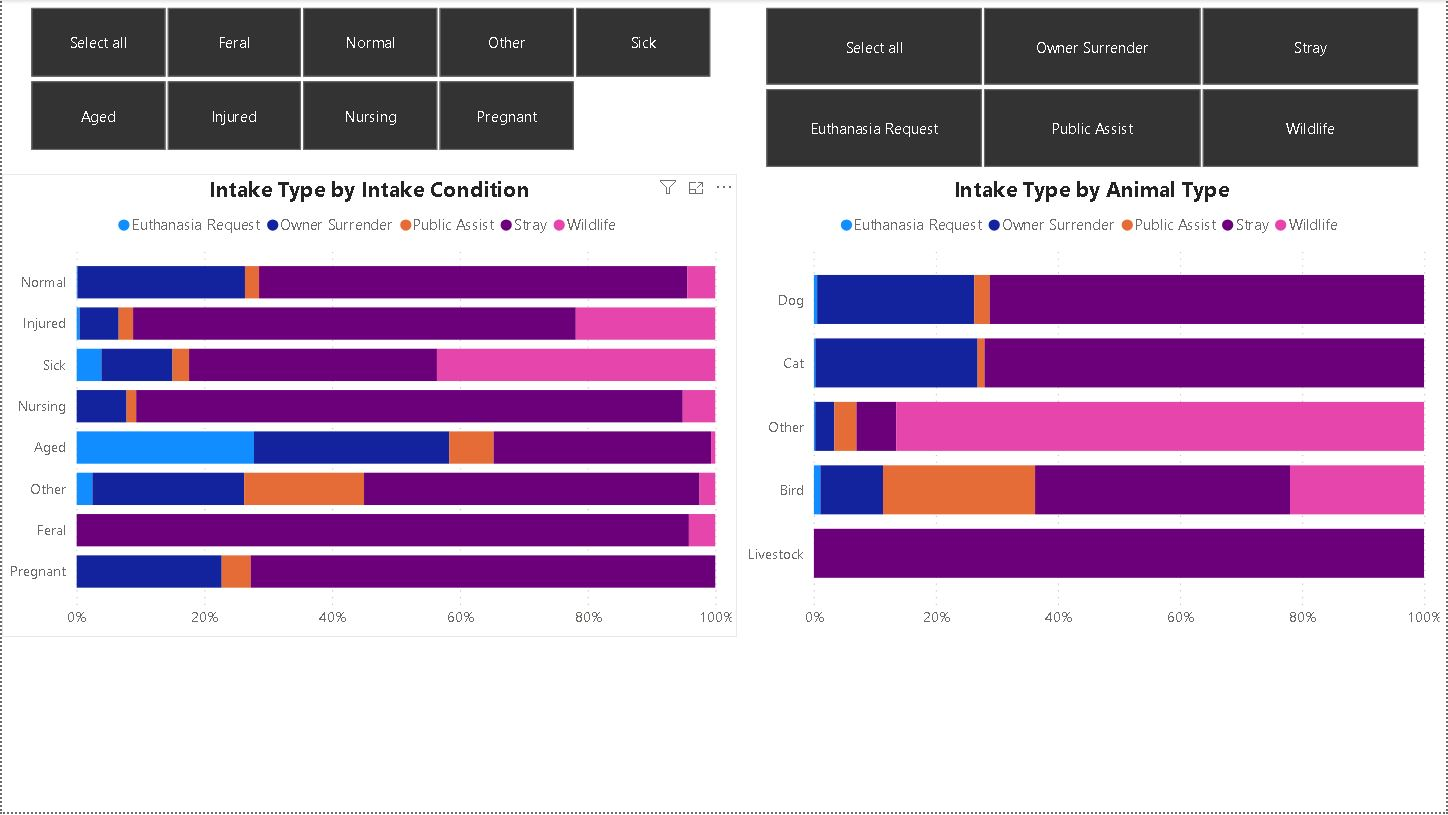

The page's visual inventory and layout, read from the dashboard file:
{"tool":"powerbi","page":{"name":"Intake Type","canvas":[1280,720],"ordinal":4},"visuals":[{"type":"hundredPercentStackedBarChart","title":"Intake Type by Intake Condition","fields":{"Category":["AnimalShelter.Intake Condition"],"Series":["AnimalShelter.Intake Type"],"Y":["CountNonNull(AnimalShelter.Animal ID)"]},"box":[0,154.7,651.7,410.5],"z":0},{"type":"hundredPercentStackedBarChart","title":"Intake Type by Animal Type","fields":{"Series":["AnimalShelter.Intake Type"],"Y":["CountNonNull(AnimalShelter.Animal ID)"],"Category":["AnimalShelter.Animal Type"]},"box":[651.7,154.7,628.3,410.5],"z":1},{"type":"slicer","fields":{"Values":["AnimalShelter.Intake Condition"]},"box":[0,0,651.7,140.1],"z":2},{"type":"slicer","fields":{"Values":["AnimalShelter.Intake Type"]},"box":[651.7,0,628.3,154.7],"z":3}]}

Visuals, with their boxes in screenshot pixels (x1, y1, x2, y2), scaled from the page's 1280x720 canvas onto the 1448x815 screenshot:
"Intake Type by Intake Condition" hundredPercentStackedBarChart: (x1=0, y1=175, x2=737, y2=640)
"Intake Type by Animal Type" hundredPercentStackedBarChart: (x1=737, y1=175, x2=1447, y2=640)
slicer - AnimalShelter.Intake Condition: (x1=0, y1=0, x2=737, y2=159)
slicer - AnimalShelter.Intake Type: (x1=737, y1=0, x2=1447, y2=175)
